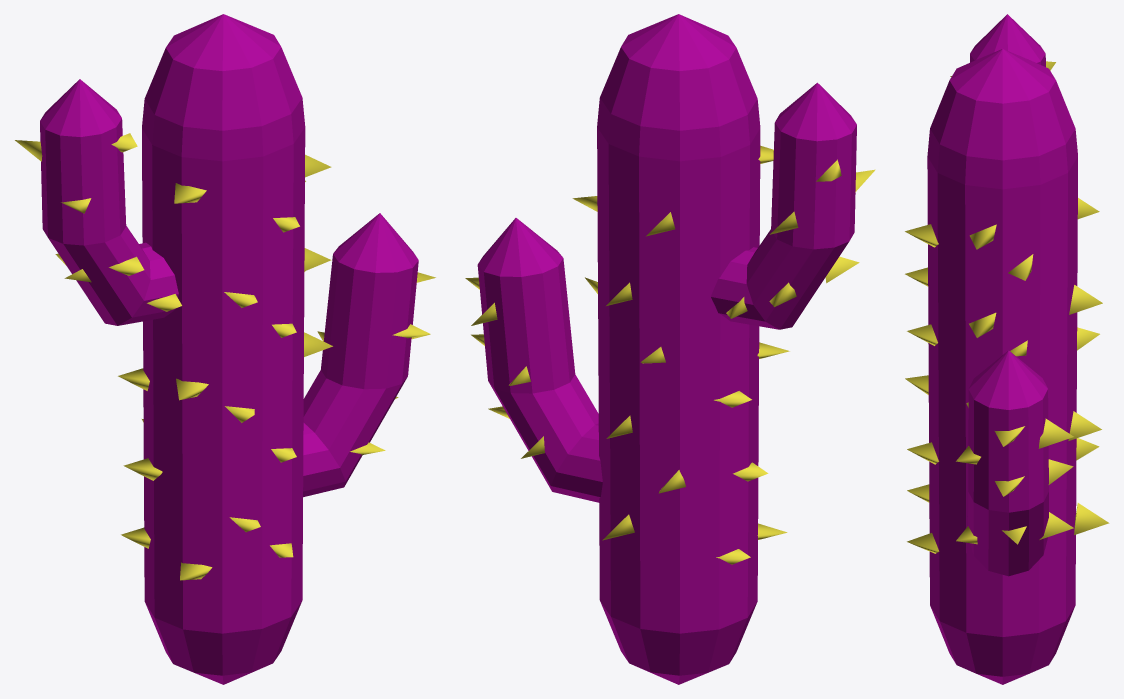
Rendered from Normal_cactus.fbx.
3 views of the same model, side by side, from view 1: azimuth 30°, elevation 25°; view 2: azimuth 150°, elevation 25°; view 3: azimuth 270°, elevation 25° (orthographic). The views are drawn at different scales.
Parts seen in each view (by area): view 1: polySurface46; view 2: polySurface46; view 3: polySurface46.
Part boxes in pixels (box(x1,y1,x2,y2)): polySurface46: box(15, 14, 435, 684); polySurface46: box(465, 14, 875, 684); polySurface46: box(905, 14, 1109, 684).
Size of the model in its own units: 2.93 by 4.76 by 1.39.
